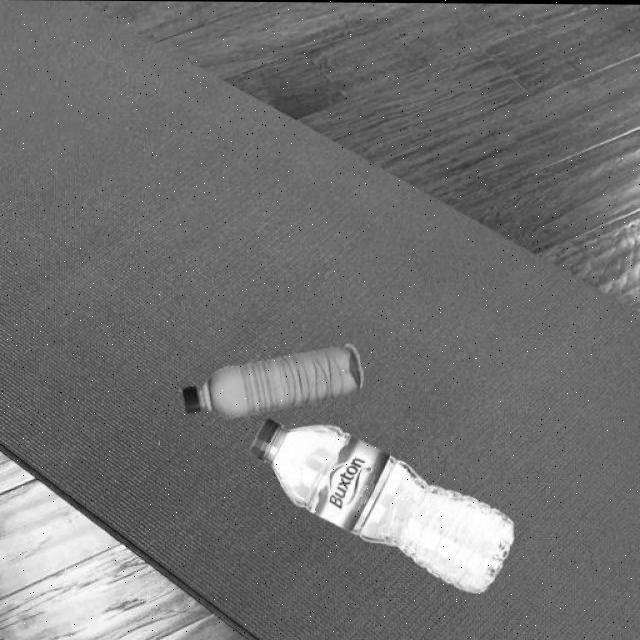bottle: (247, 415, 515, 594), (180, 340, 364, 420)
